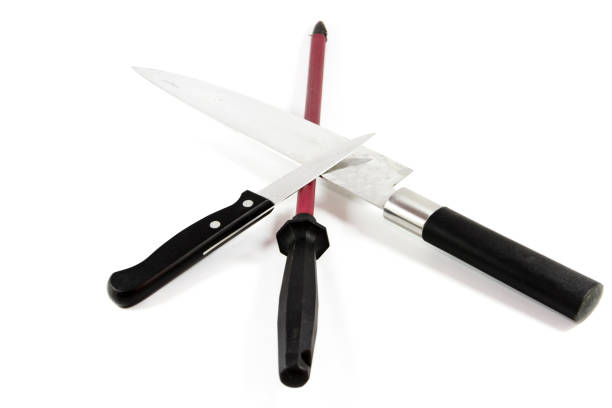knife: (128, 64, 606, 327), (105, 124, 380, 311)
